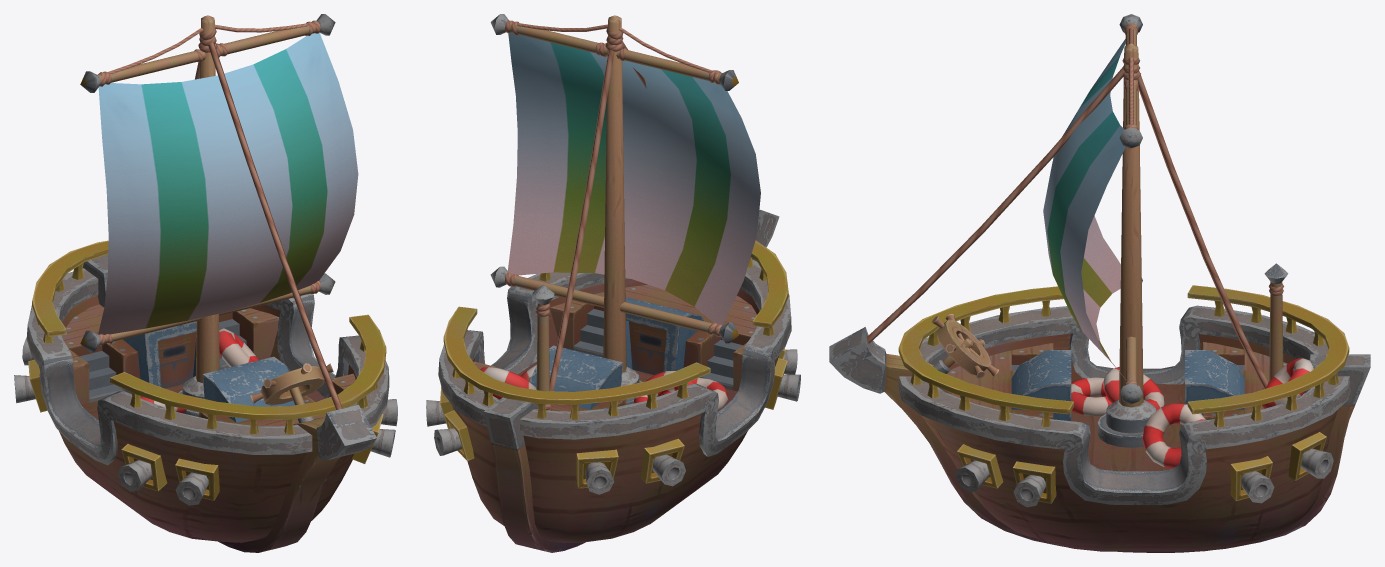
File: Ship_Sailship.fbx
3 views of the same model, side by side, from view 1: azimuth 30°, elevation 25°; view 2: azimuth 150°, elevation 25°; view 3: azimuth 270°, elevation 25° (orthographic). The views are drawn at different scales.
Parts seen in each view (by area): view 1: Ship_sailship; view 2: Ship_sailship; view 3: Ship_sailship.
Boxes of the visible parts, x1,y1,x2,y2 form: Ship_sailship: (14, 14, 397, 552); Ship_sailship: (426, 14, 800, 552); Ship_sailship: (829, 14, 1370, 552).
Bounding box in the file's own units: 165 × 290 × 283.
1 material, 1 textured.
